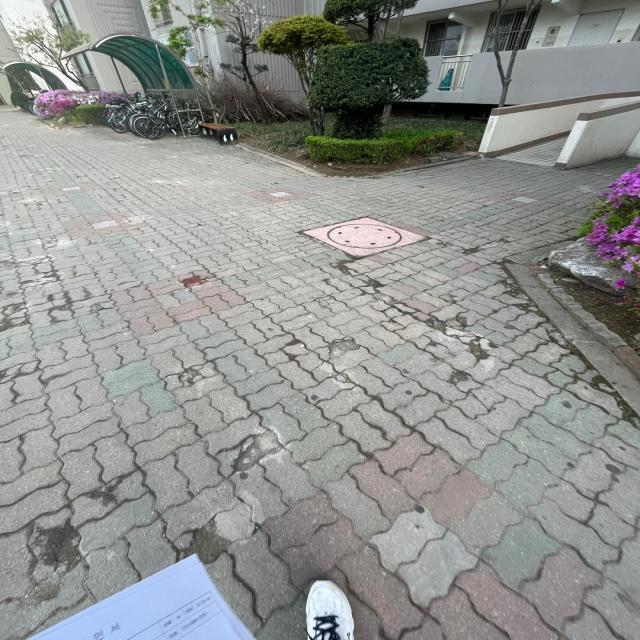Sewer Cover: (301, 204, 451, 291)
